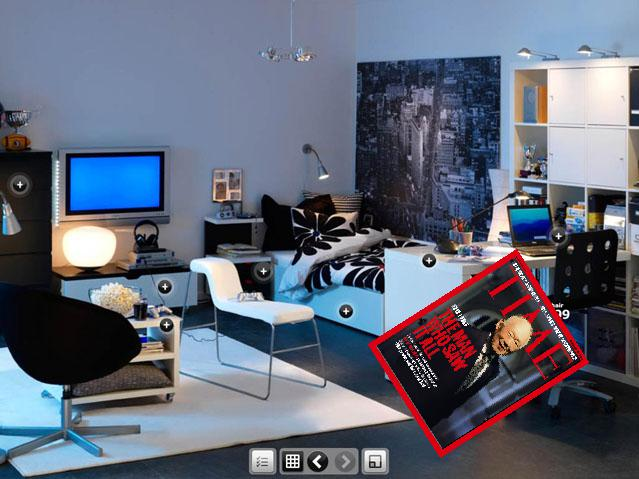times: (371, 247, 597, 457)
